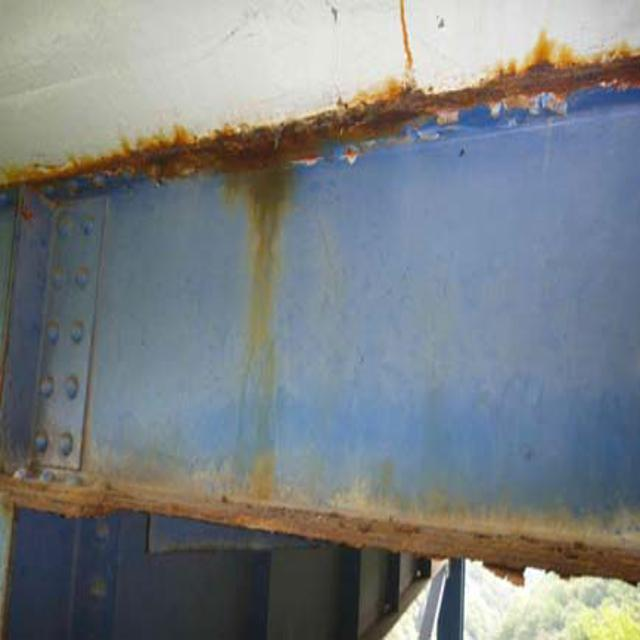corrosion: (14, 37, 632, 186)
